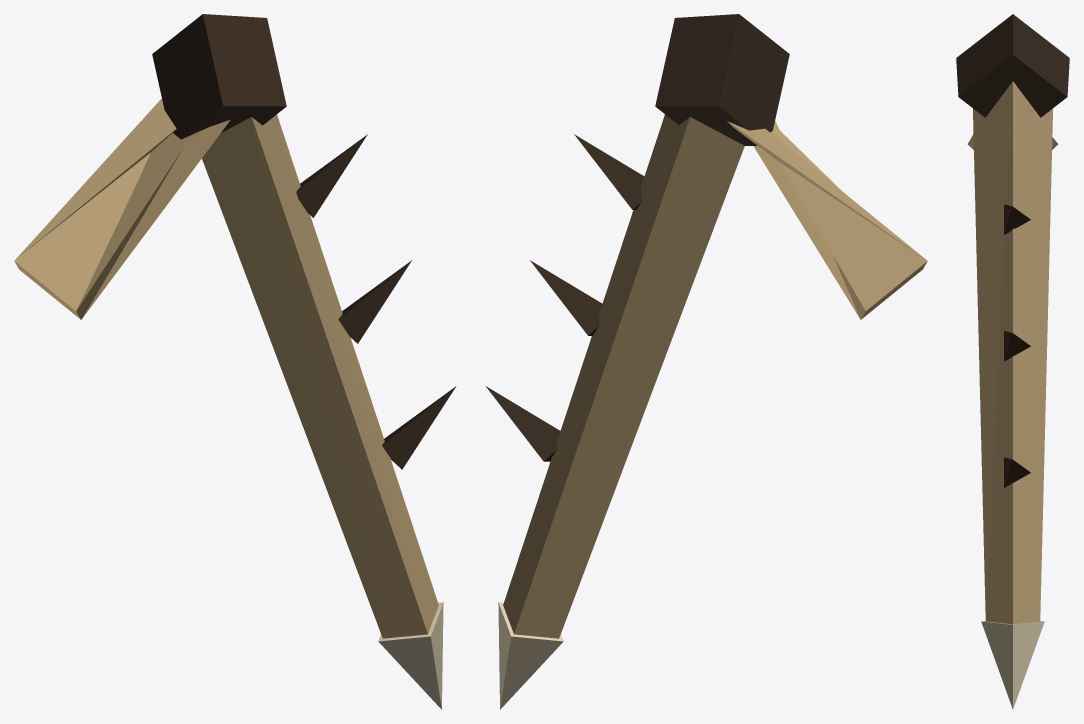
Rendered from animal_megaspider_leg.obj.
The picture shows the model from 3 angles, left to right: view 1: azimuth 30°, elevation 25°; view 2: azimuth 150°, elevation 25°; view 3: azimuth 270°, elevation 25°; orthographic projection. The views are drawn at different scales.
Visible parts, largest first — view 1: animal_megaspider_leg; view 2: animal_megaspider_leg; view 3: animal_megaspider_leg.
Part boxes in pixels (x1,y1,x2,y2): animal_megaspider_leg: [14, 14, 456, 709]; animal_megaspider_leg: [485, 14, 927, 709]; animal_megaspider_leg: [956, 14, 1069, 709].
Size of the model in its own units: 0.3593 by 0.5851 by 0.1.
